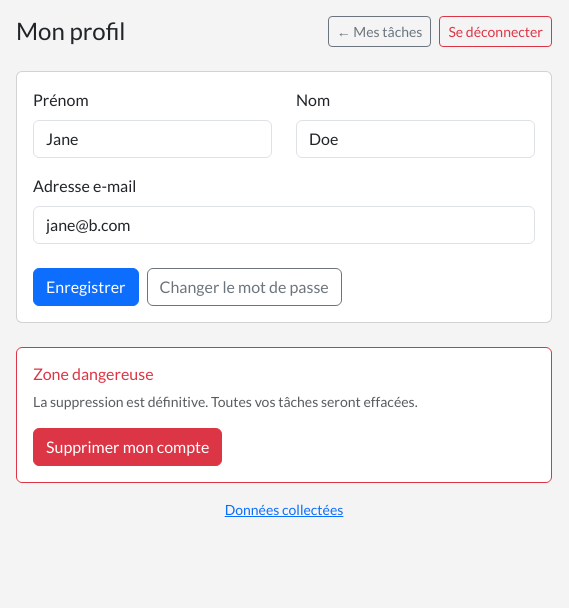
Test: saves the profile and shows a success message
The image size is (569, 608).
Click the button "Enregistrer" at point(86, 287), box [33,268,138,306]
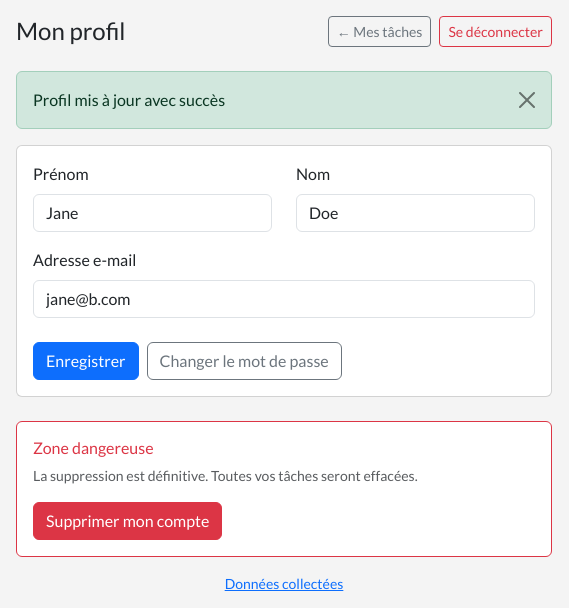
Result: the text "Profil mis à jour avec succès" is shown at [16,71,552,129]
